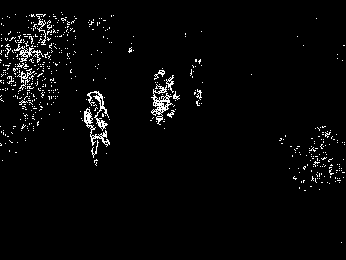person: (80, 89, 112, 167)
